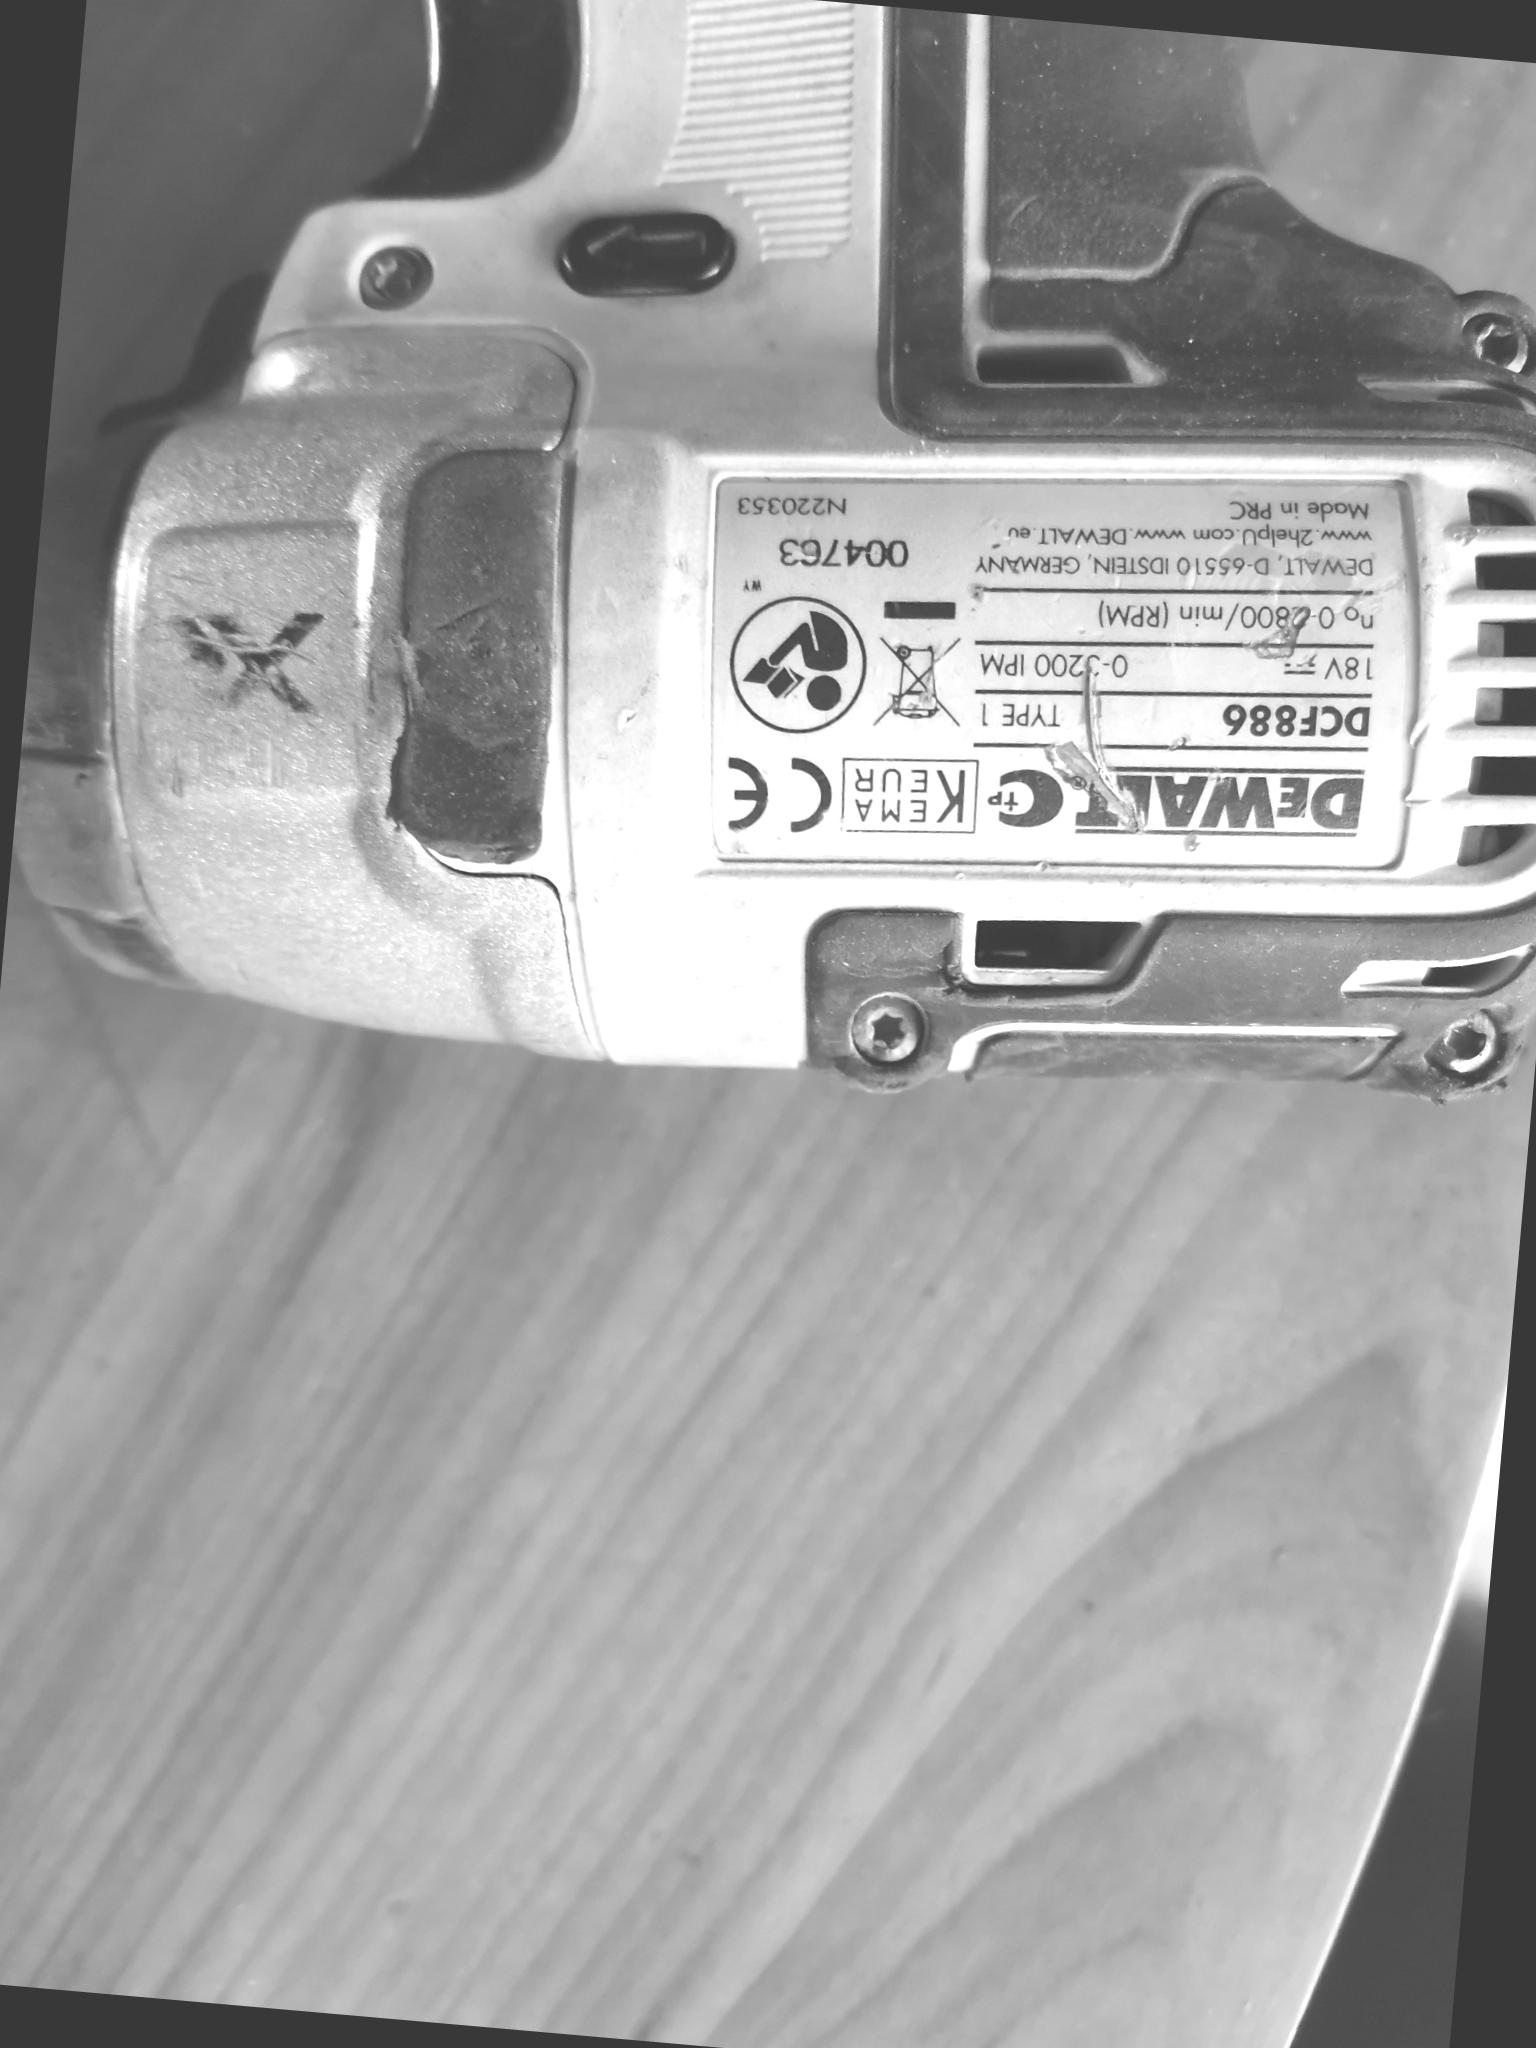torx: (836, 980, 936, 1068), (352, 232, 439, 318), (1426, 997, 1513, 1079), (1457, 300, 1536, 381)
